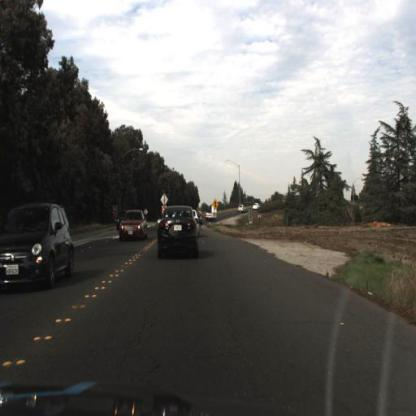car: (1, 202, 77, 294), (157, 204, 198, 259), (118, 209, 149, 245), (119, 207, 148, 243), (205, 202, 220, 223)
